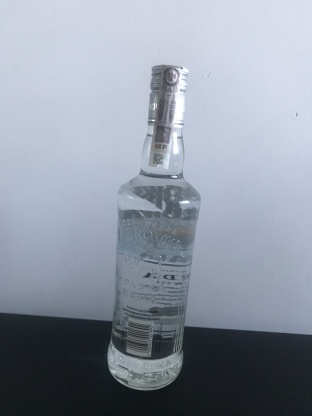nakretka: (144, 58, 191, 131)
